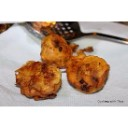bonda: (17, 62, 63, 99), (67, 54, 112, 91), (41, 35, 75, 66)
